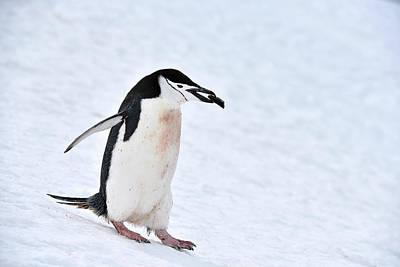chinstrap: (49, 60, 232, 262)
